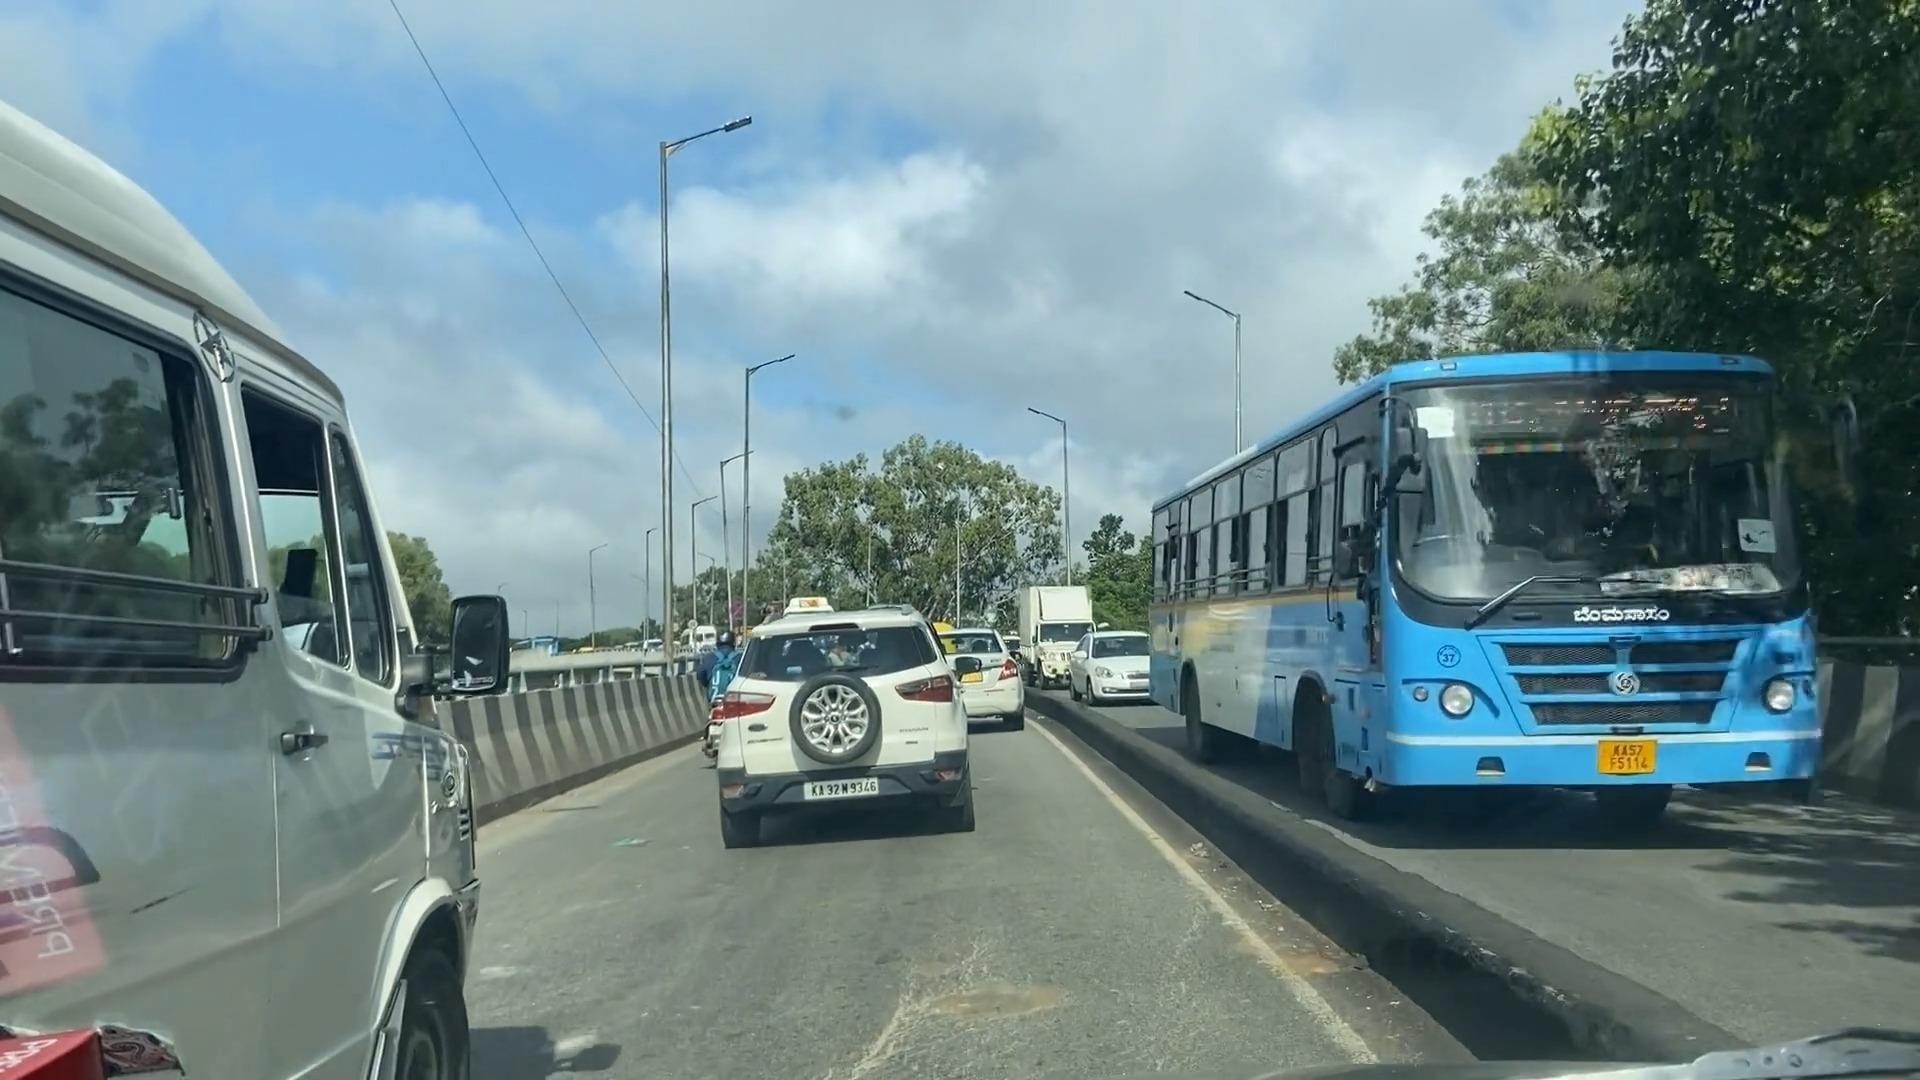LMV: (719, 624, 971, 815)
UnsurfacedRoad: (839, 944, 1087, 1079)
